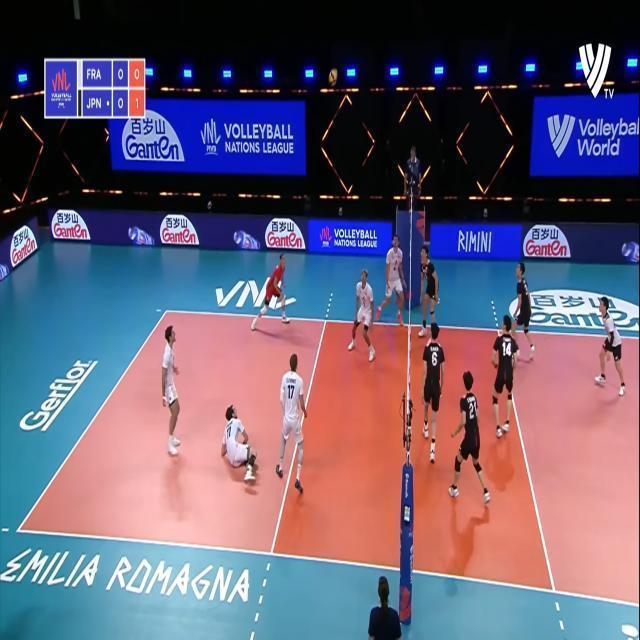volleyball: (328, 72, 337, 85)
